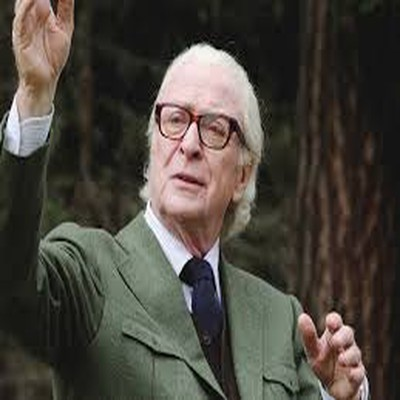eywear: (136, 85, 266, 162)
